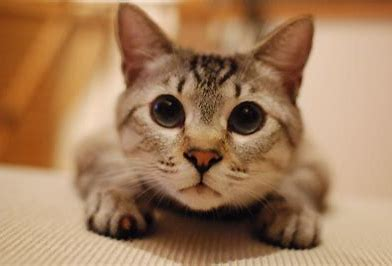cat: (71, 1, 337, 252)
